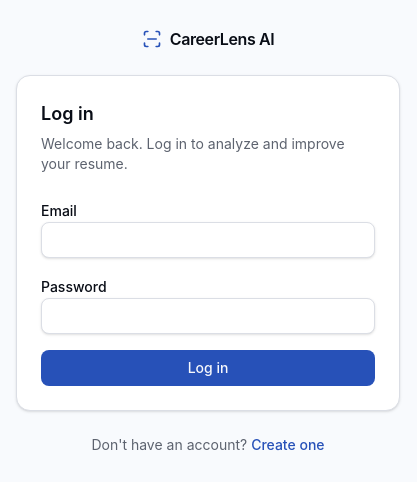
Test: LoginPage › requires a password
The width and height of the screenshot is (417, 482).
Type "jane@example.com" into the field labelled "Email" at [208, 240], box 41,222 -> 375,258
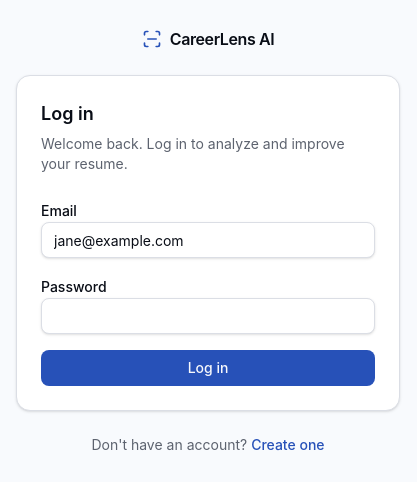
Click the button "Log in" at [208, 368], box 41,350 -> 375,386
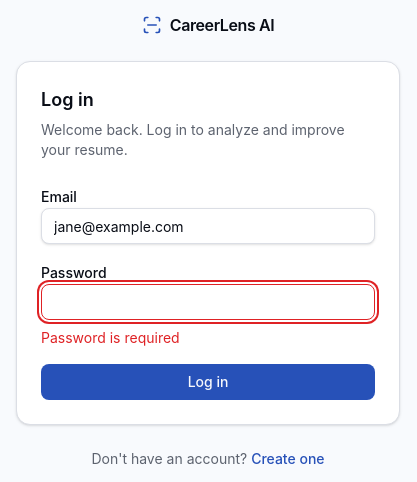
Result: the text "Password is required" is shown at 41,329 -> 180,346
